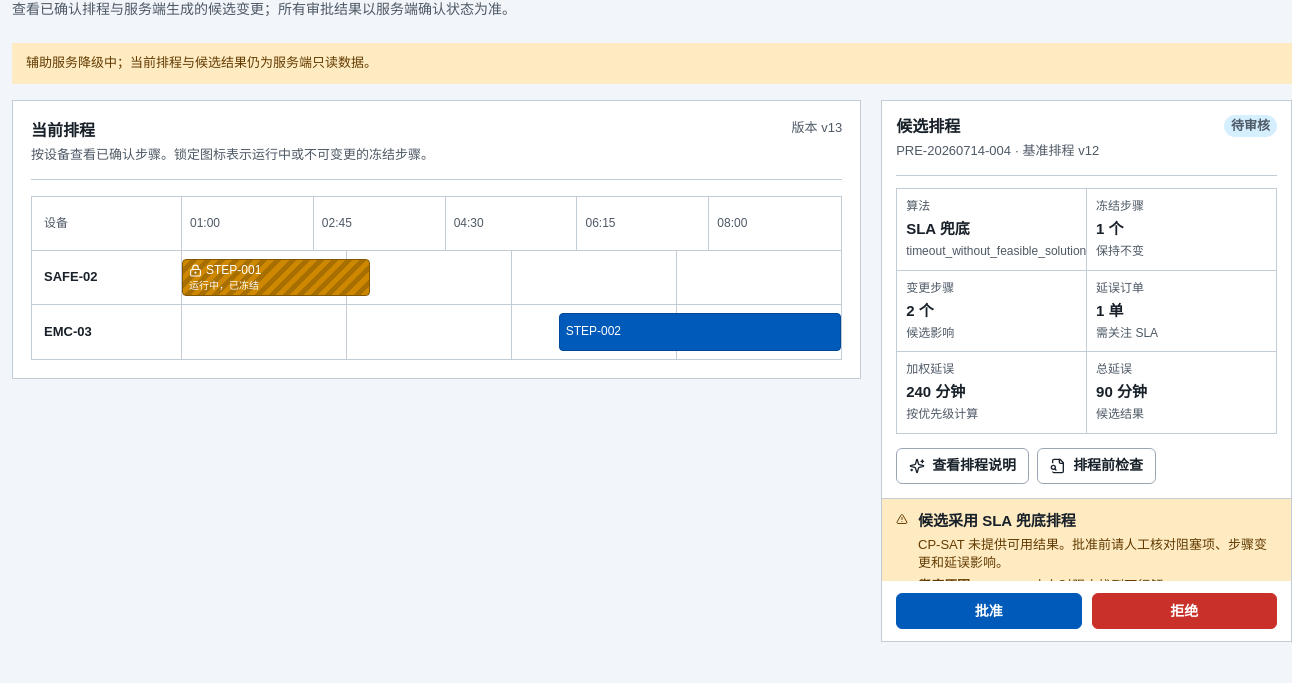
SchedulingPage › reuses one idempotency key when an approval is retried
Later steps or results of the test are not shown.
Click the button with aria-label "批准候选排程".
click(989, 611)  # box [896, 593, 1082, 629]
(page scrolled)
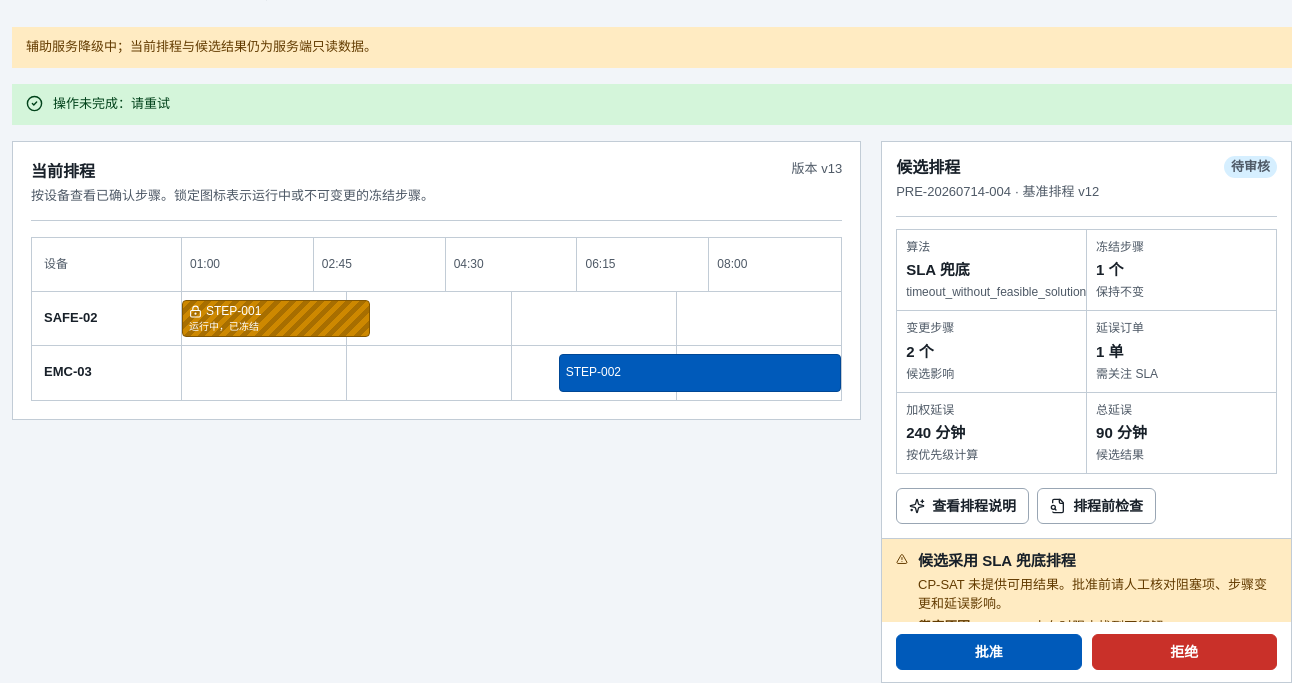
expect the text "操作未完成：请重试" is shown: met, box [12, 84, 1291, 125]
